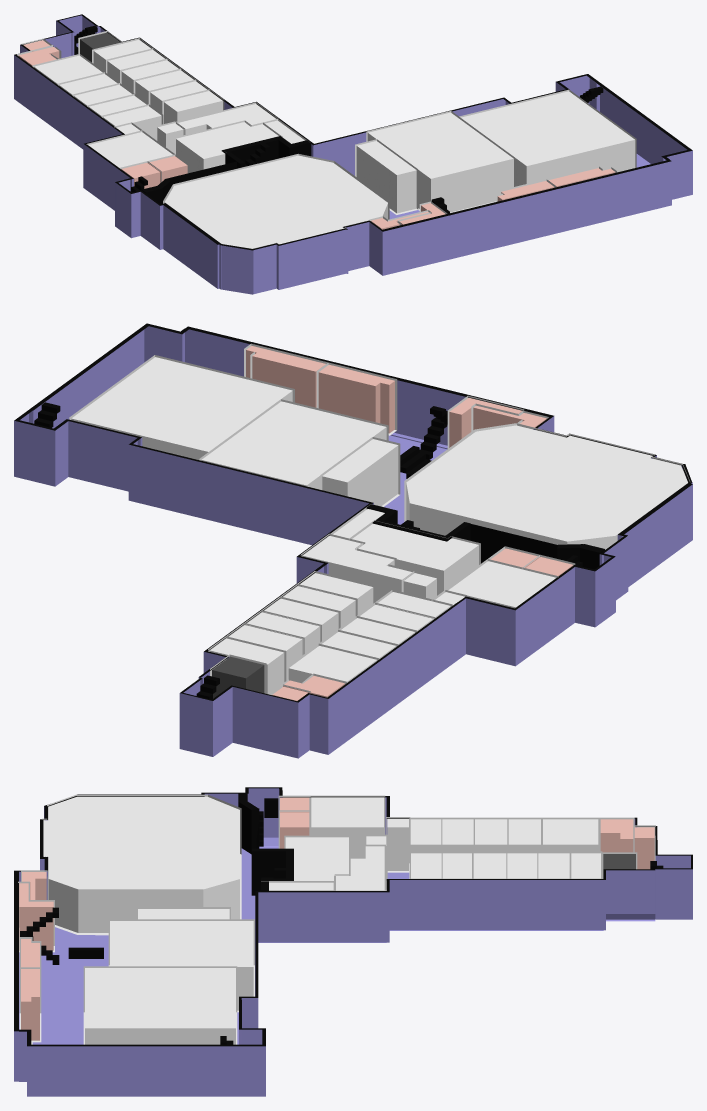
3 renders of one model, top to bottom at view 1: azimuth 30°, elevation 25°; view 2: azimuth 150°, elevation 25°; view 3: azimuth 270°, elevation 25°, orthographic. The views are drawn at different scales.
Visible parts, largest first — view 1: object, room_1_3_1, room_1_3_3, room_1_3_2, room_1_3_19, room_1_3_16, room_1_3_14, room_1_3_18, room_1_3_4, room_1_3_21, room_1_3_10, room_1_3_8 (+17 smaller); view 2: object, room_1_3_1, room_1_3_3, room_1_3_2, room_1_3_16, トイレ_1_3_8, room_1_3_19, room_1_3_18, room_1_3_14, トイレ_1_3_4, room_1_3_21, room_1_3_9 (+17 smaller); view 3: object, room_1_3_1, room_1_3_3, room_1_3_2, room_1_3_14, room_1_3_16, room_1_3_21, room_1_3_18, トイレ_1_3_7, トイレ_1_3_4, room_1_3_20, トイレ_1_3_6 (+22 smaller).
Boxes of the visible parts, left/top/right/bottom form: object: left=14, top=14, right=692, bottom=294; room_1_3_1: left=164, top=155, right=387, bottom=248; room_1_3_3: left=461, top=91, right=635, bottom=186; room_1_3_2: left=367, top=112, right=513, bottom=212; room_1_3_19: left=356, top=141, right=416, bottom=213; room_1_3_16: left=176, top=122, right=278, bottom=172; room_1_3_14: left=88, top=132, right=172, bottom=168; room_1_3_18: left=176, top=104, right=275, bottom=134; room_1_3_4: left=164, top=91, right=222, bottom=123; room_1_3_21: left=34, top=55, right=102, bottom=84; room_1_3_10: left=103, top=106, right=161, bottom=139; room_1_3_8: left=107, top=50, right=166, bottom=83; object: left=14, top=323, right=692, bottom=758; room_1_3_1: left=406, top=425, right=687, bottom=549; room_1_3_3: left=71, top=357, right=292, bottom=459; room_1_3_2: left=201, top=401, right=386, bottom=489; room_1_3_16: left=352, top=523, right=478, bottom=593; トイレ_1_3_8: left=318, top=364, right=394, bottom=433; room_1_3_19: left=322, top=439, right=398, bottom=506; room_1_3_18: left=302, top=536, right=413, bottom=601; room_1_3_14: left=448, top=561, right=556, bottom=608; トイレ_1_3_4: left=246, top=346, right=325, bottom=407; room_1_3_21: left=288, top=646, right=376, bottom=682; room_1_3_9: left=210, top=638, right=284, bottom=694; object: left=14, top=787, right=692, bottom=1096; room_1_3_1: left=43, top=796, right=239, bottom=932; room_1_3_3: left=85, top=968, right=235, bottom=1044; room_1_3_2: left=110, top=921, right=253, bottom=1010; room_1_3_14: left=311, top=797, right=383, bottom=856; room_1_3_16: left=285, top=837, right=348, bottom=890; room_1_3_21: left=543, top=819, right=598, bottom=851; room_1_3_18: left=336, top=846, right=384, bottom=890; トイレ_1_3_7: left=19, top=883, right=53, bottom=950; トイレ_1_3_4: left=21, top=969, right=39, bottom=1040; room_1_3_20: left=387, top=818, right=408, bottom=870; トイレ_1_3_6: left=600, top=819, right=633, bottom=852.
Bounding box in the file's own units: 2.08 × 0.2 × 2.31.
